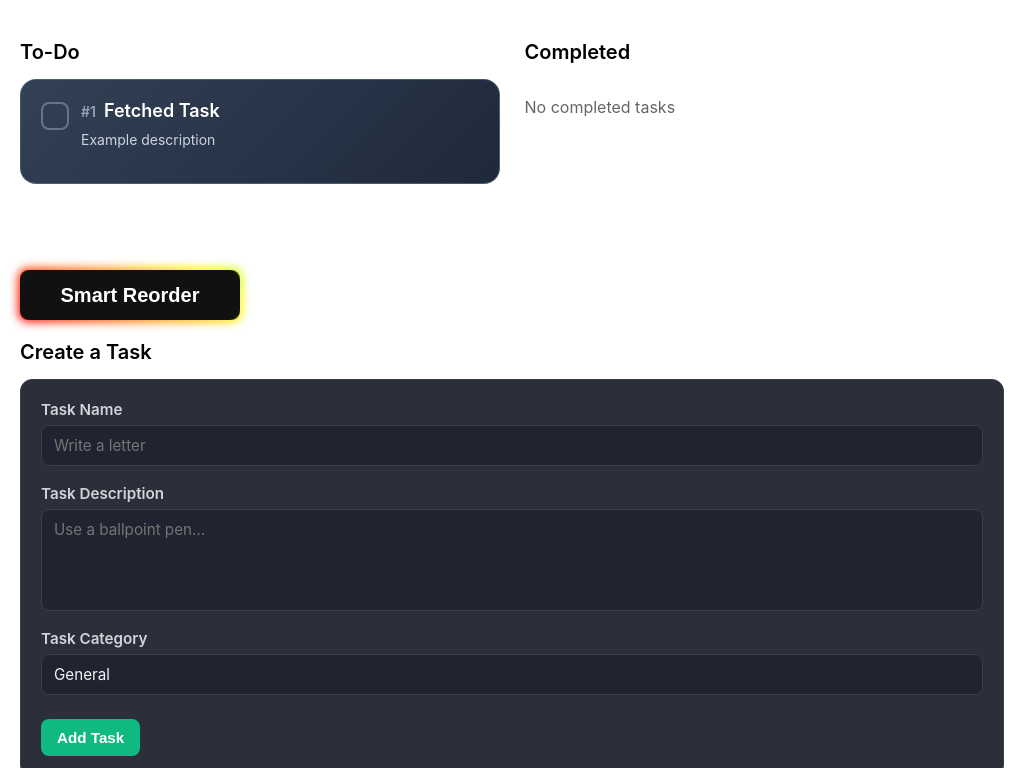
Test: test changing task completion status with unsuccessful backend response
Expected: the heading "Fetched Task" is shown, [104,100,220,121]
What coordinates should you click on to do the following:
click the checkbox
I would click on:
 (53, 114)
Its box is [41,102,65,126].
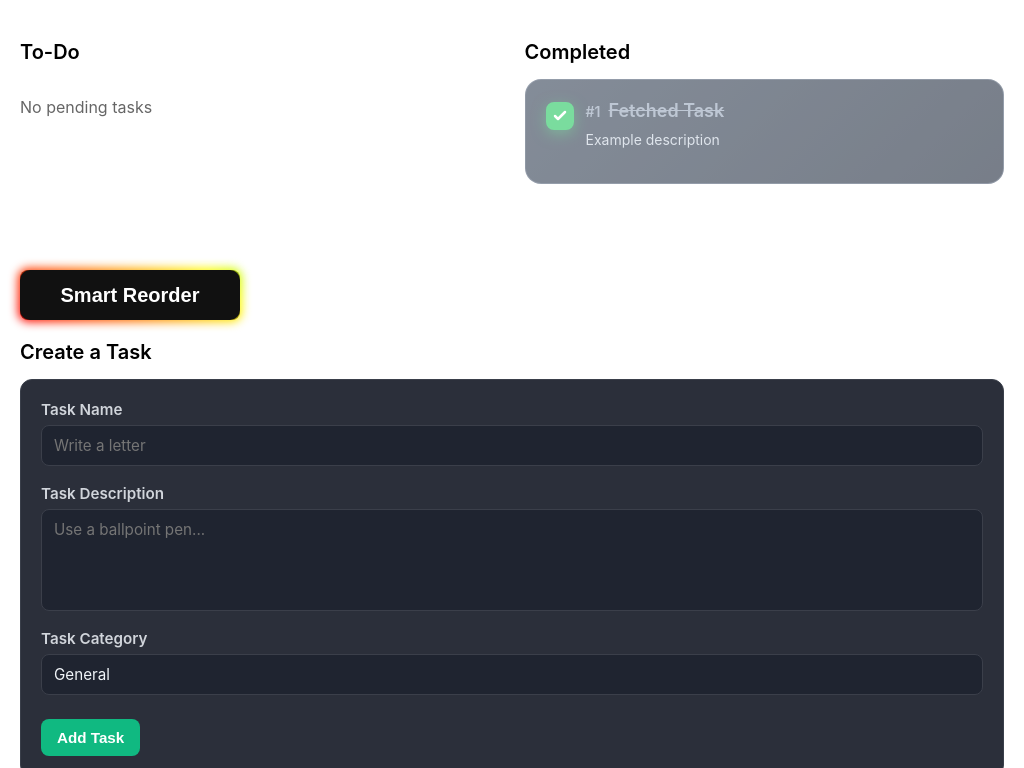
Expected: the checkbox is checked, [546,102,570,126]
